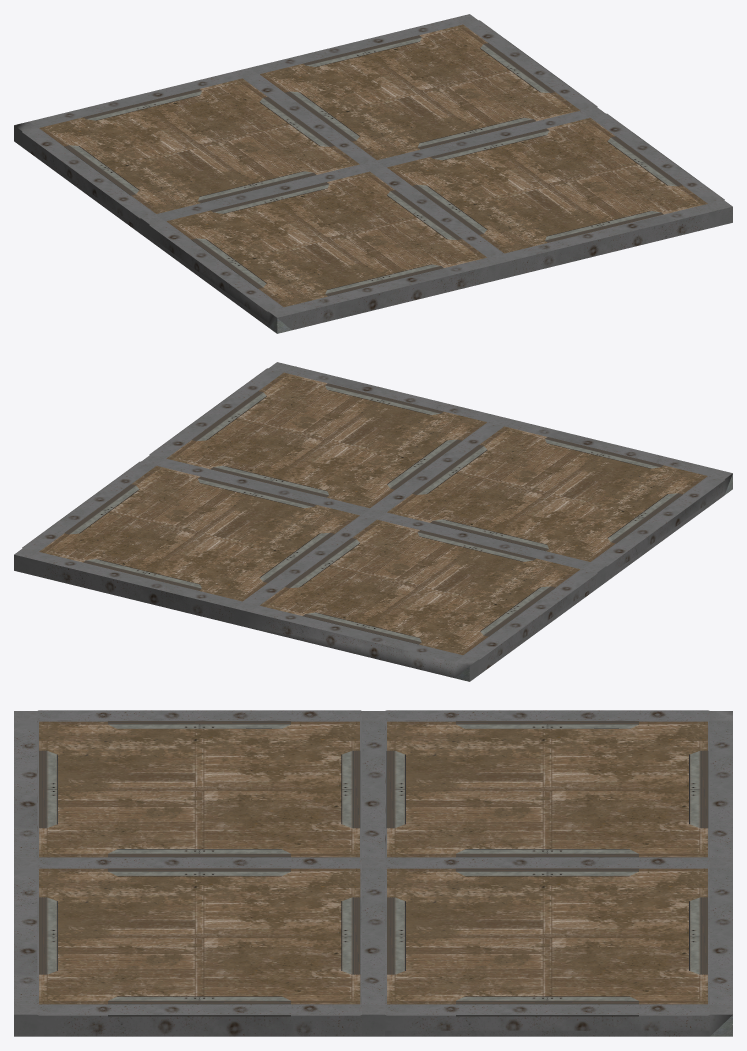
The model's file is Ob_WoodPlatformThin_RC.fbx.
The picture shows the model from 3 angles, top to bottom: view 1: azimuth 30°, elevation 25°; view 2: azimuth 150°, elevation 25°; view 3: azimuth 270°, elevation 25°; orthographic projection. The views are drawn at different scales.
Parts seen in each view (by area): view 1: Ob_WoodPlatformThin_RC; view 2: Ob_WoodPlatformThin_RC; view 3: Ob_WoodPlatformThin_RC.
Part boxes in pixels (box(x1,y1,x2,y2)): Ob_WoodPlatformThin_RC: box(14, 14, 732, 333); Ob_WoodPlatformThin_RC: box(14, 362, 732, 681); Ob_WoodPlatformThin_RC: box(14, 710, 732, 1036).
Size of the model in its own units: 1558 by 52.77 by 1550.
